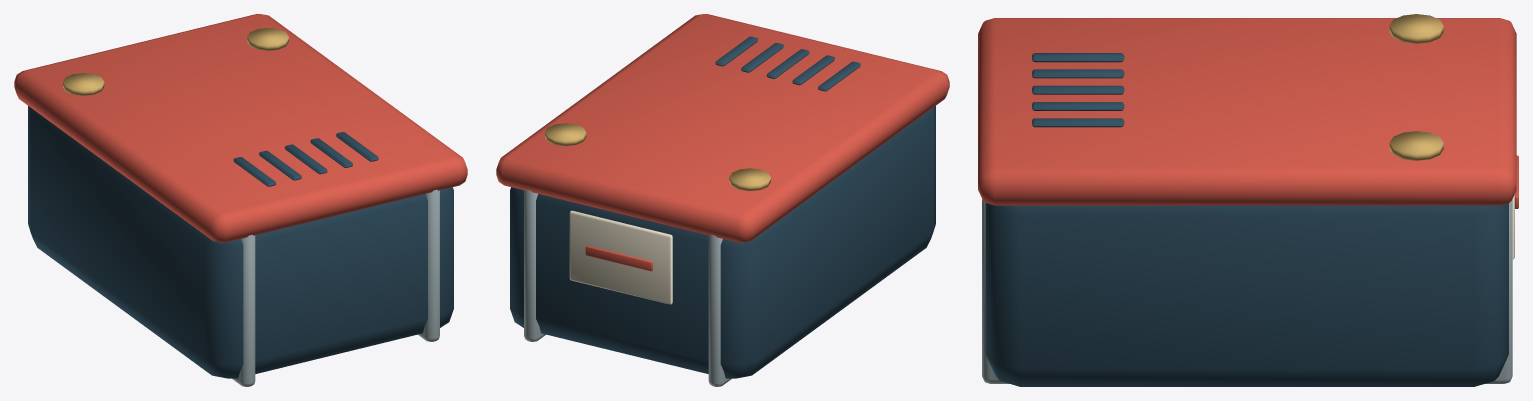
File: battery.glb
3 renders of one model, left to right at view 1: azimuth 30°, elevation 25°; view 2: azimuth 150°, elevation 25°; view 3: azimuth 270°, elevation 25°, orthographic. The views are drawn at different scales.
Parts seen in each view (by area): view 1: battery_Navy, battery_Paint, battery_Aluminium, battery_Brass; view 2: battery_Paint, battery_Navy, battery_Ivory, battery_Aluminium, battery_Brass; view 3: battery_Navy, battery_Paint, battery_Brass, battery_Aluminium.
Part boxes in pixels (bbox=[...]): battery_Navy: bbox=[28, 106, 453, 378]; battery_Paint: bbox=[14, 14, 467, 242]; battery_Aluminium: bbox=[232, 189, 439, 386]; battery_Brass: bbox=[63, 28, 288, 95]; battery_Paint: bbox=[496, 14, 949, 271]; battery_Navy: bbox=[510, 36, 935, 378]; battery_Ivory: bbox=[569, 210, 672, 304]; battery_Aluminium: bbox=[524, 189, 731, 386]; battery_Brass: bbox=[545, 123, 770, 190]; battery_Navy: bbox=[985, 53, 1508, 386]; battery_Paint: bbox=[978, 18, 1518, 208]; battery_Brass: bbox=[1389, 14, 1443, 160]; battery_Aluminium: bbox=[982, 199, 1512, 383].
Size of the model in its own units: 0.5 by 0.3445 by 0.703.
